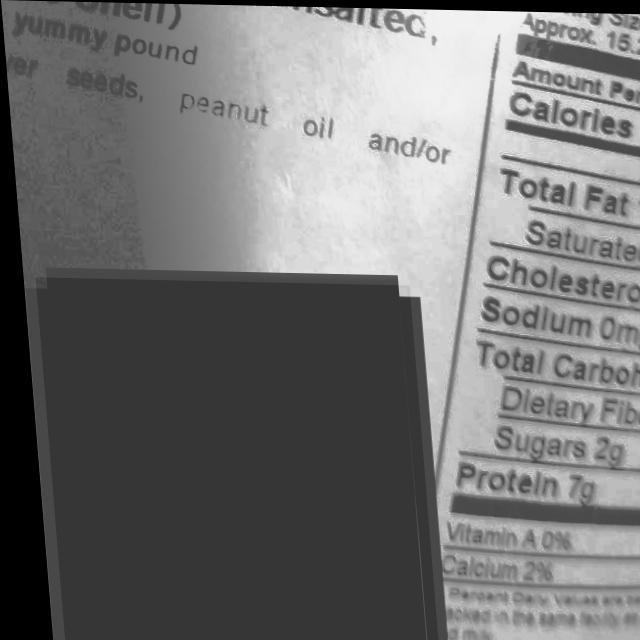qr_code: (30, 277, 427, 640)
